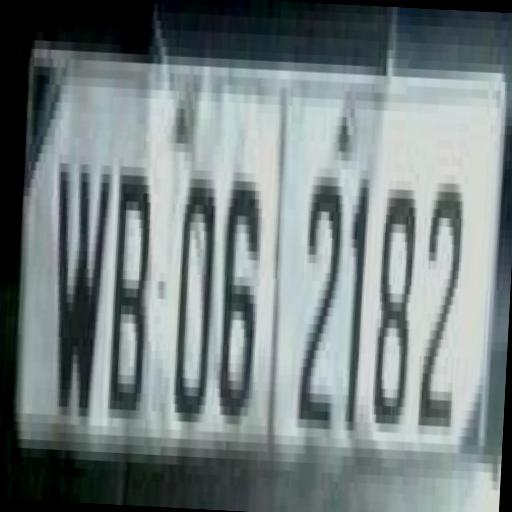number plate: (3, 22, 512, 512)
